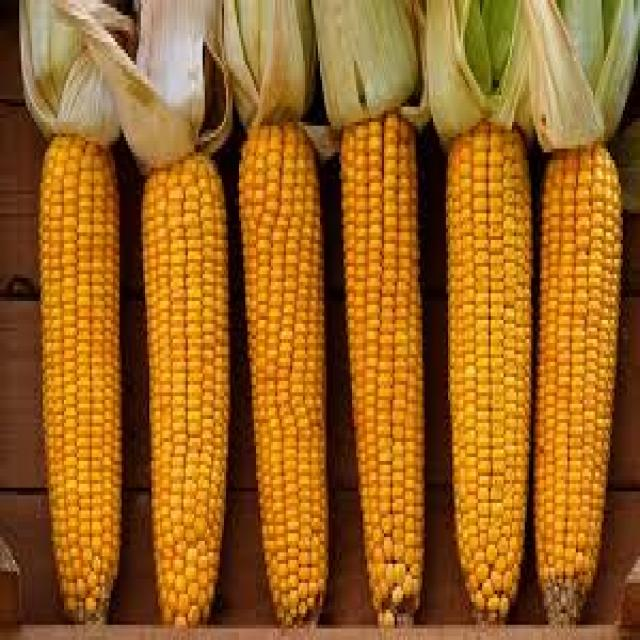corn: (229, 110, 338, 629), (434, 86, 531, 640), (331, 107, 433, 619), (134, 130, 238, 630), (34, 118, 129, 621), (534, 128, 623, 637)
